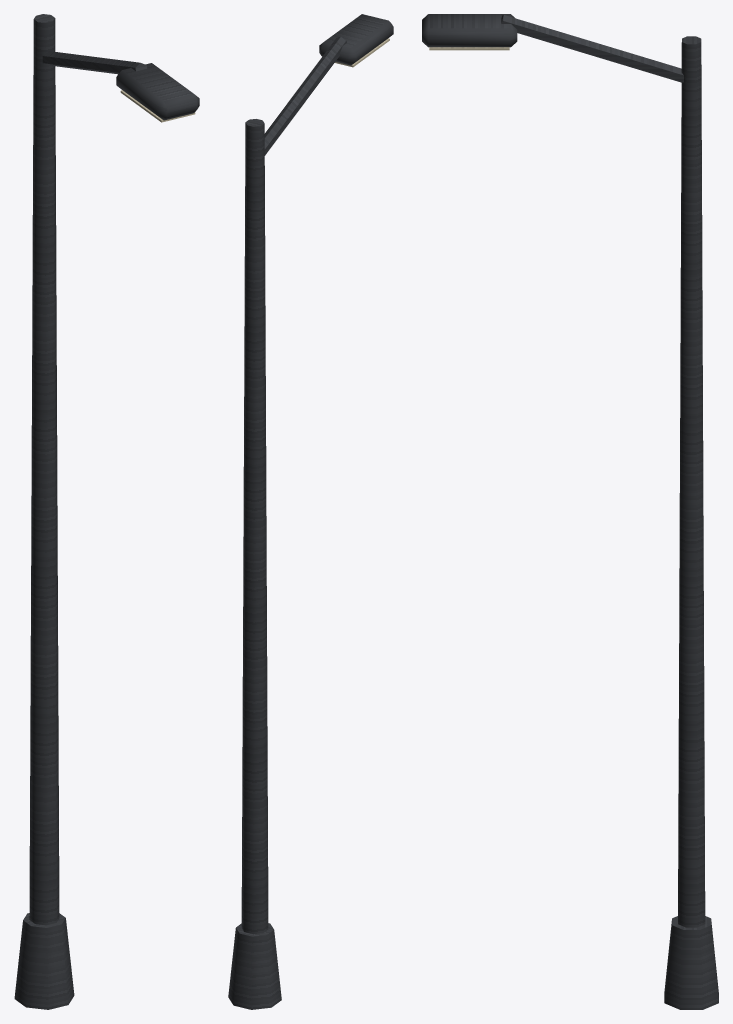
Rendered from poste_luz.glb.
3 renders of one model, left to right at view 1: azimuth 30°, elevation 25°; view 2: azimuth 150°, elevation 25°; view 3: azimuth 270°, elevation 25°, orthographic. The views are drawn at different scales.
Parts seen in each view (by area): view 1: Inteiro; view 2: Inteiro; view 3: Inteiro.
Part boxes in pixels (<box>): Inteiro: <box>14,14,199,1009</box>; Inteiro: <box>228,14,393,1009</box>; Inteiro: <box>422,14,718,1009</box>.
Size of the model in its own units: 0.2587 by 5.13 by 1.4.
Materials: 1 (1 with a texture image).
